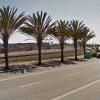Palm tree: (24, 6, 82, 58)
